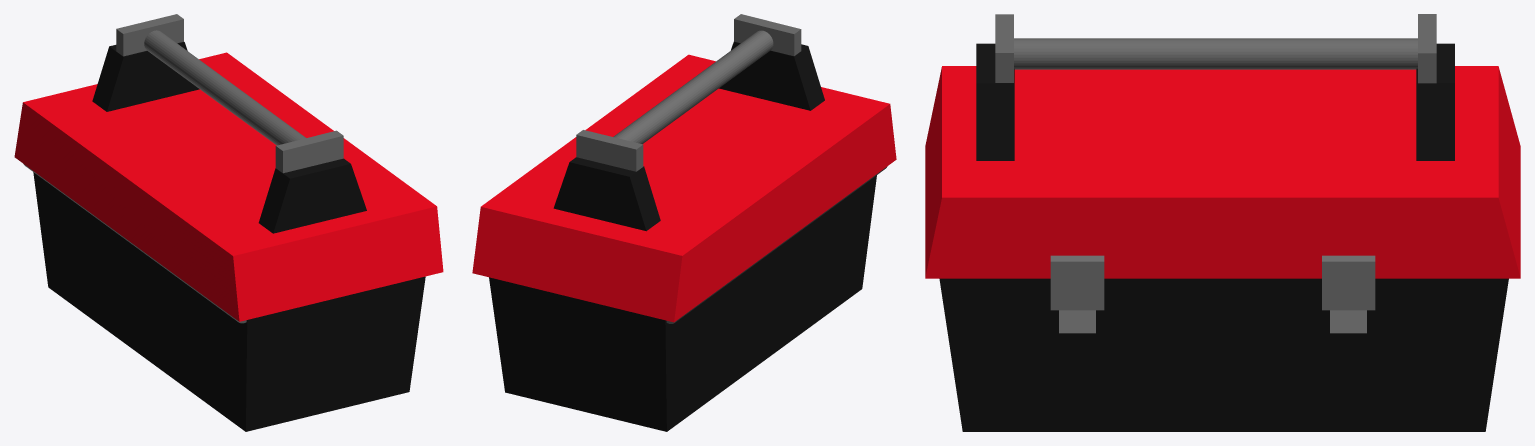
Rendered from Toolbox.fbx.
3 renders of one model, left to right at view 1: azimuth 30°, elevation 25°; view 2: azimuth 150°, elevation 25°; view 3: azimuth 270°, elevation 25°, orthographic. The views are drawn at different scales.
Visible parts, largest first — view 1: Toolbox; view 2: Toolbox; view 3: Toolbox.
Part boxes in pixels (x1,y1,x2,y2): Toolbox: [14, 14, 443, 431]; Toolbox: [472, 14, 896, 431]; Toolbox: [925, 14, 1520, 431].
Size of the model in its own units: 339 by 396 by 620.
